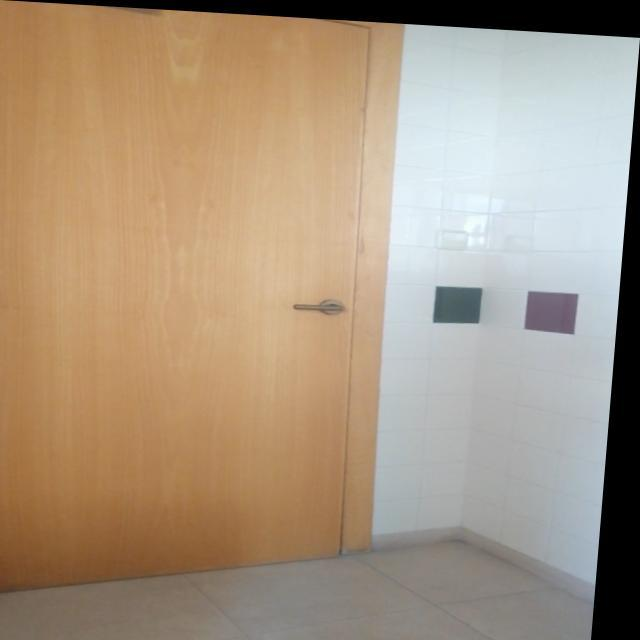door_handle: (295, 297, 354, 309)
